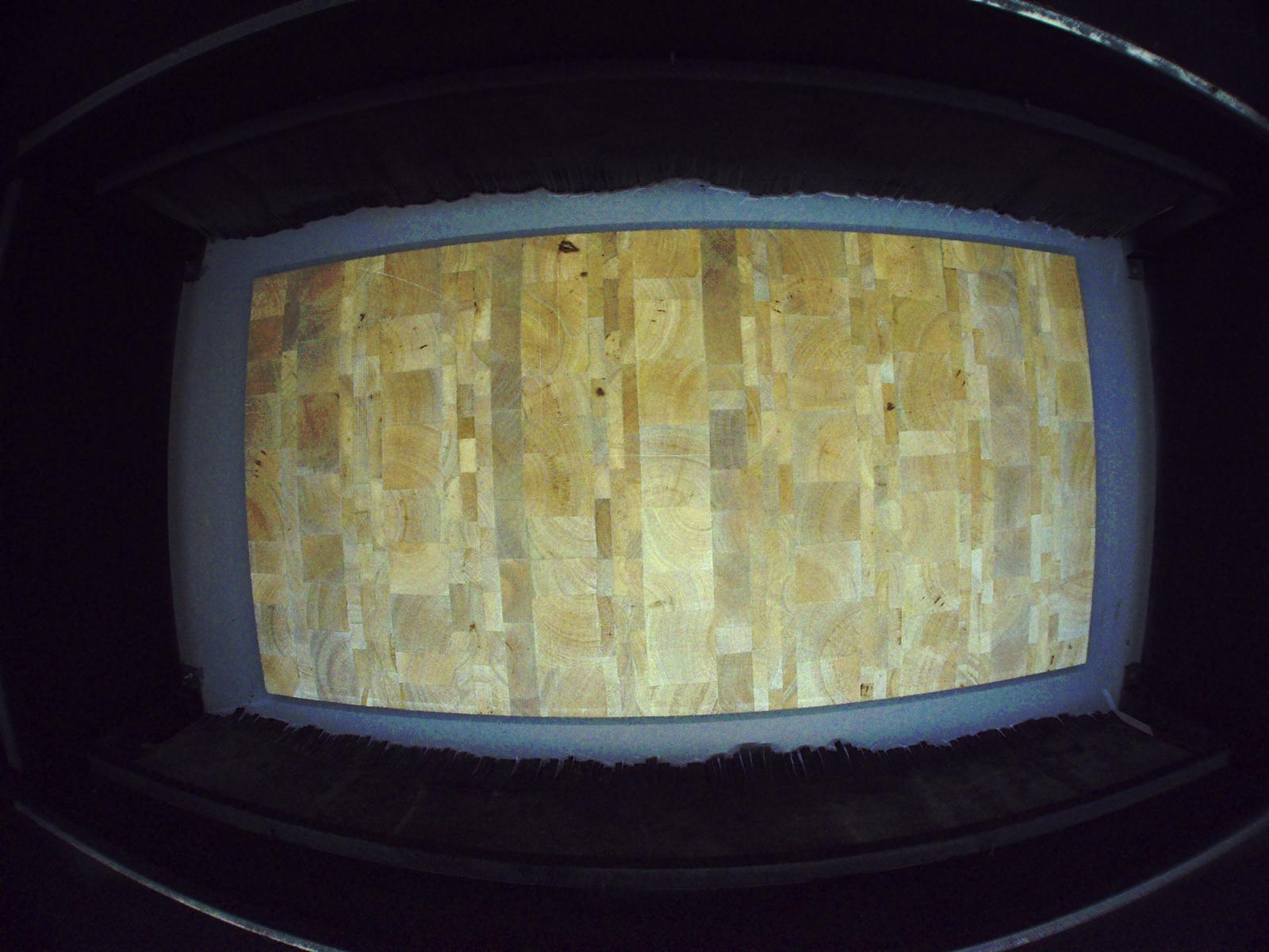sheck_ecuatoriano: (555, 234, 582, 258)
